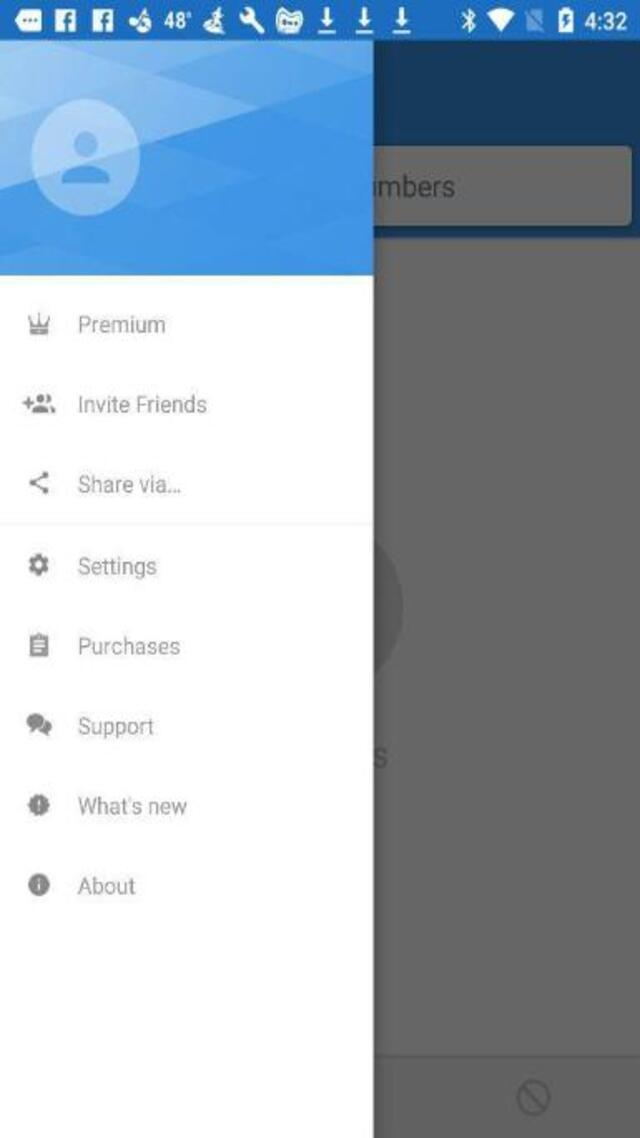Icon: (32, 97, 142, 216), (22, 393, 58, 414), (28, 311, 52, 336), (28, 712, 52, 735), (27, 872, 49, 895), (27, 552, 49, 575), (28, 631, 48, 656), (26, 793, 49, 814), (30, 472, 50, 492)
Text: (79, 393, 207, 414), (78, 795, 188, 816), (79, 635, 180, 656), (78, 554, 158, 580), (78, 474, 181, 494), (78, 716, 156, 739), (78, 314, 166, 333), (78, 876, 136, 894)
